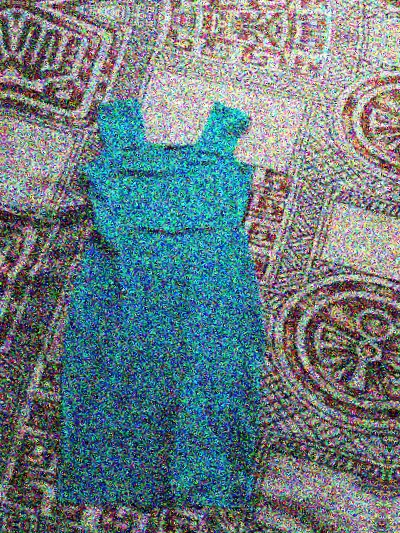Dress: (19, 79, 316, 520)
